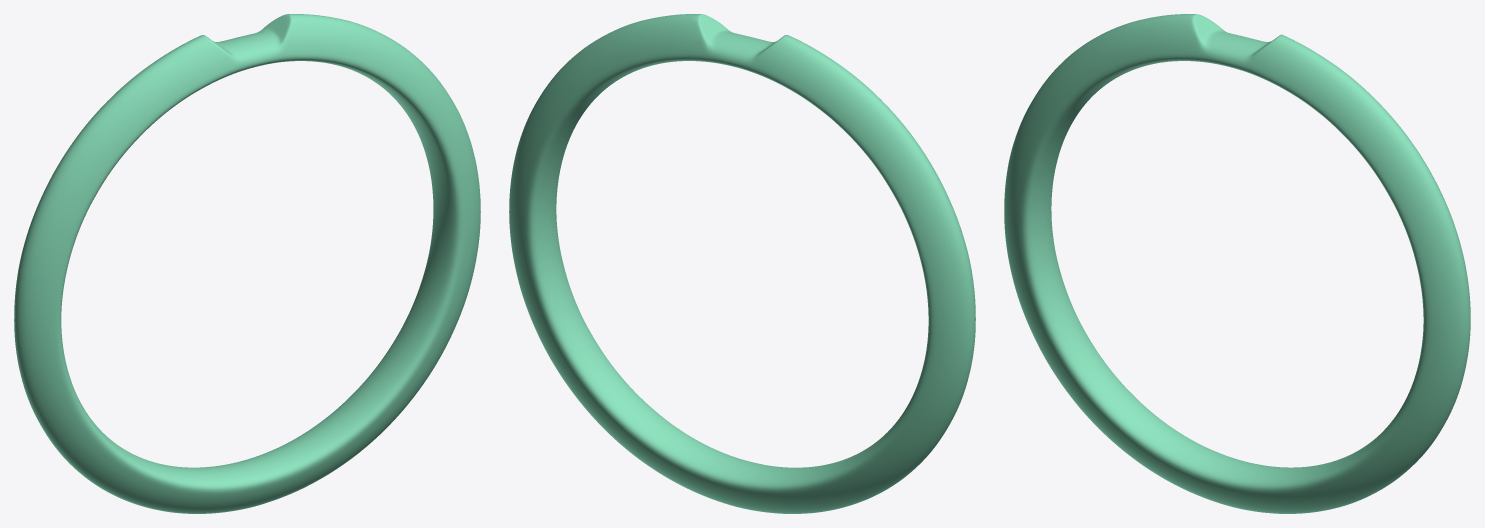
The picture shows the model from 3 angles, left to right: view 1: azimuth 30°, elevation 25°; view 2: azimuth 150°, elevation 25°; view 3: azimuth 330°, elevation 25°; orthographic projection.
Parts seen in each view (by area): view 1: Metal02; view 2: Metal02; view 3: Metal02.
Boxes of the visible parts, <box> form: Metal02: <box>14,14,480,513</box>; Metal02: <box>509,14,975,513</box>; Metal02: <box>1004,14,1470,513</box>.
Size of the model in its own units: 20.86 by 20.71 by 1.98.
